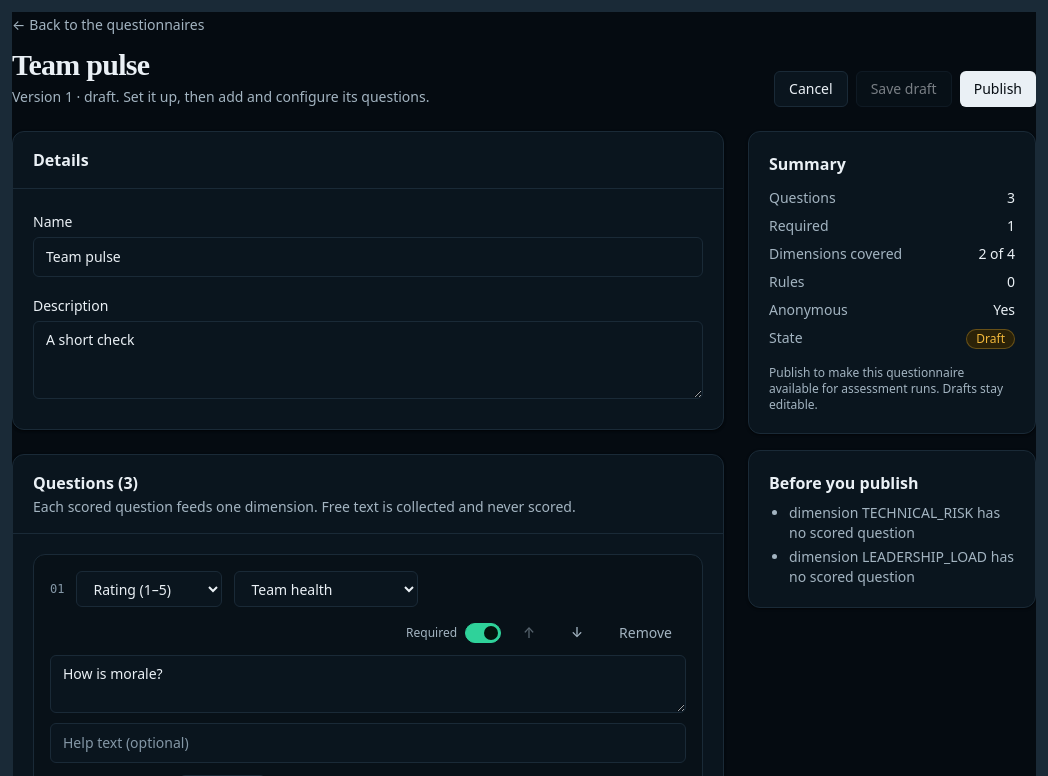
Test: BuilderPage: saving and publishing › lists every problem when the server refuses to publish
The image size is (1048, 776).
Expected: the heading "Team pulse" is shown, [12,48,149,81]
Click the button "Publish". click: x=998, y=89
box: [960,71,1036,107]
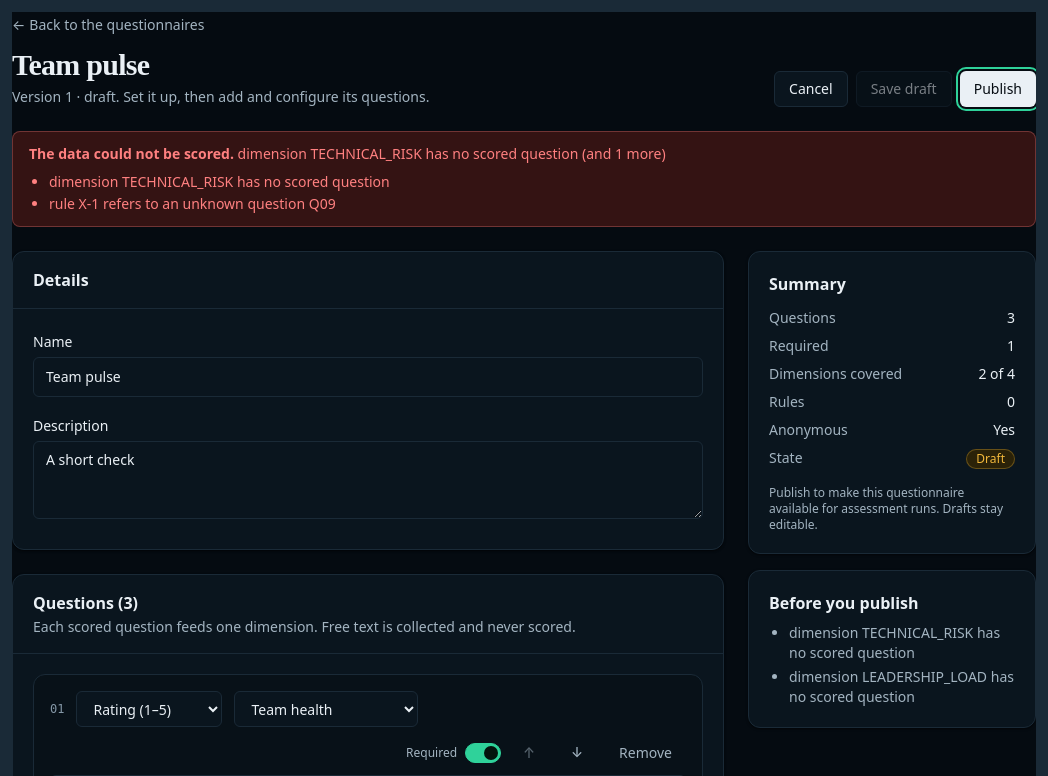
Expected: the text "rule X-1 refers to an unknown question Q09" shows "dimension TECHNICAL_RISK has no scored question", [49,172,390,191]
